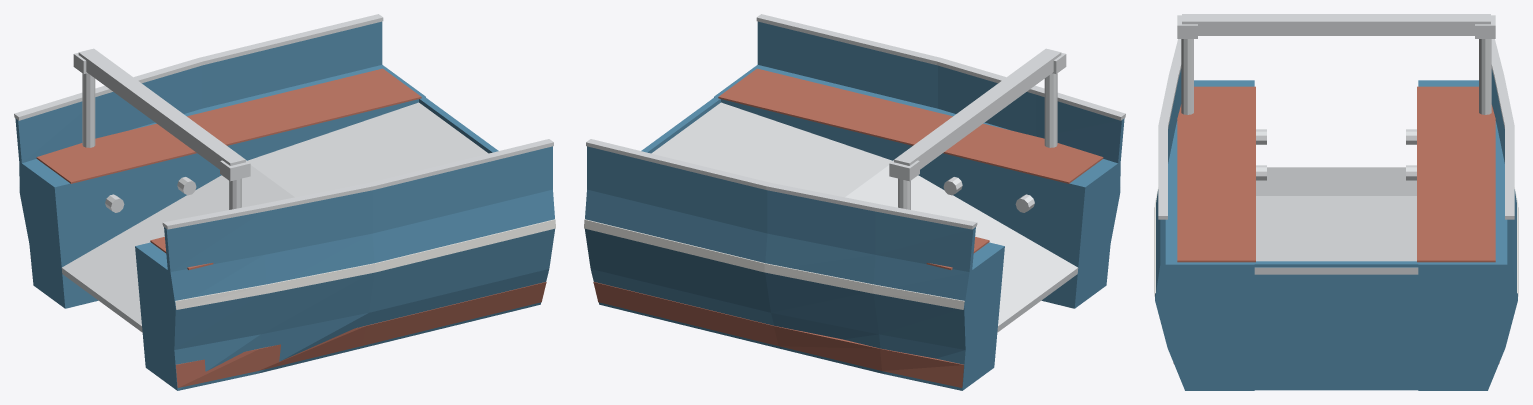
Rendered from fish-market-and-trawler-quay-fish-market-and-trawler-q-494c3976__37255.glb.
The picture shows the model from 3 angles, left to right: view 1: azimuth 30°, elevation 25°; view 2: azimuth 150°, elevation 25°; view 3: azimuth 270°, elevation 25°; orthographic projection.
Parts seen in each view (by area): view 1: fish-market-and-trawler-quay-trawler-stern-section; view 2: fish-market-and-trawler-quay-trawler-stern-section; view 3: fish-market-and-trawler-quay-trawler-stern-section.
Boxes of the visible parts, box(x1,y1,x2,y2) form: fish-market-and-trawler-quay-trawler-stern-section: box(14, 14, 555, 390); fish-market-and-trawler-quay-trawler-stern-section: box(584, 14, 1125, 390); fish-market-and-trawler-quay-trawler-stern-section: box(1154, 14, 1518, 390).
Bounding box in the file's own units: 7.29 × 4.05 × 6.02.
